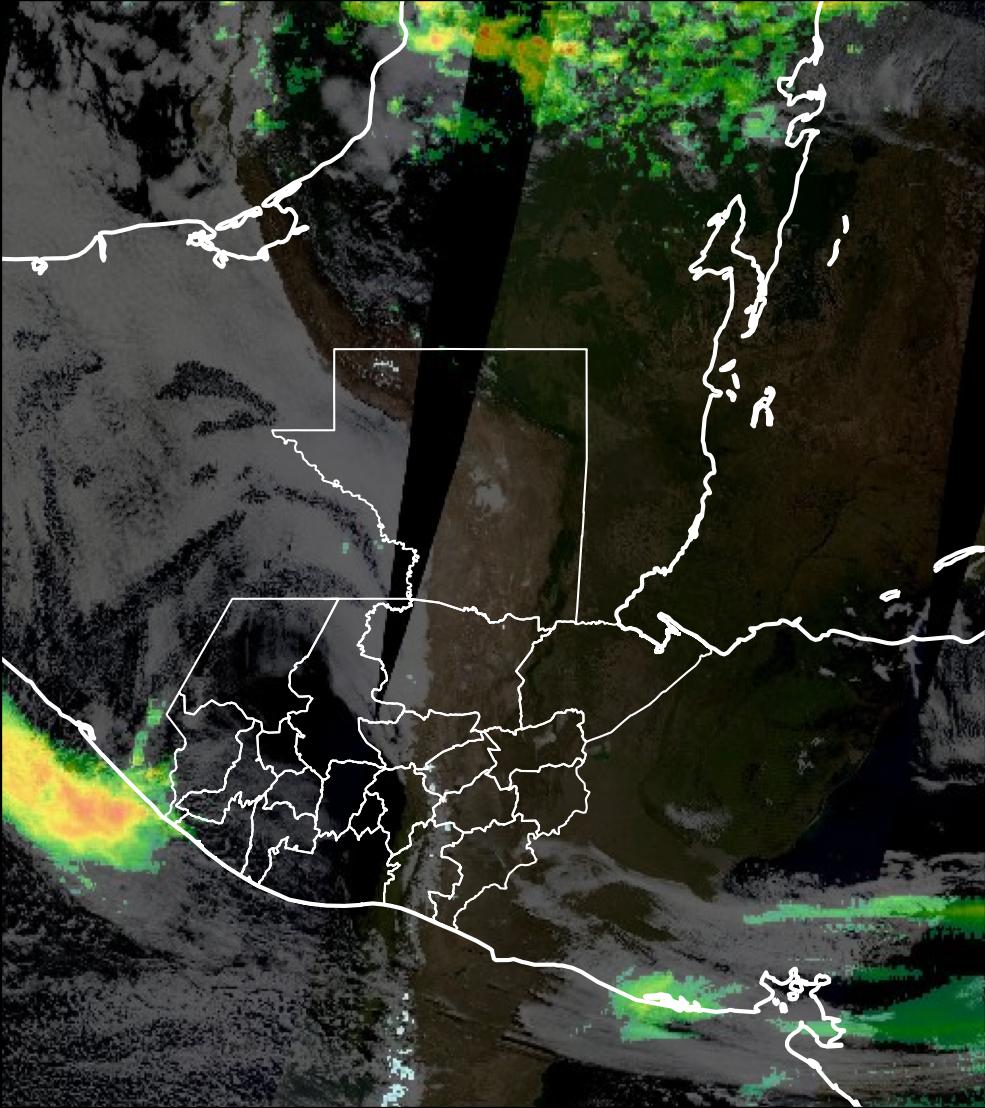precipitacion: (1, 712, 135, 867)
